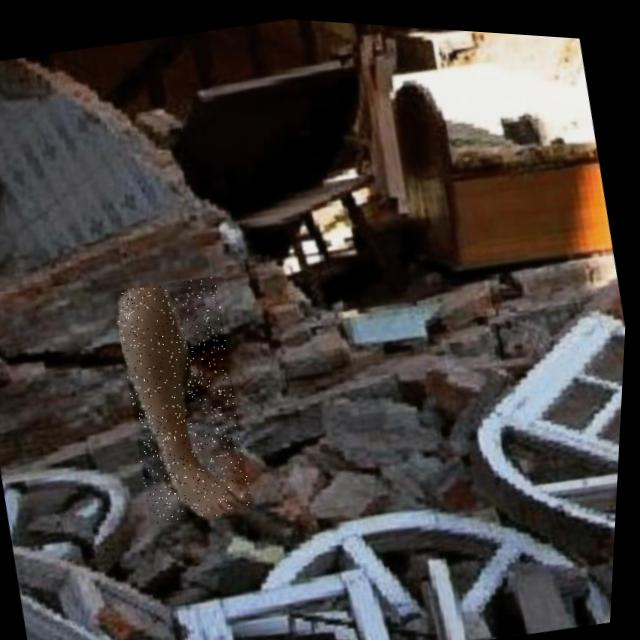Person in Rubble: (107, 268, 267, 528)
